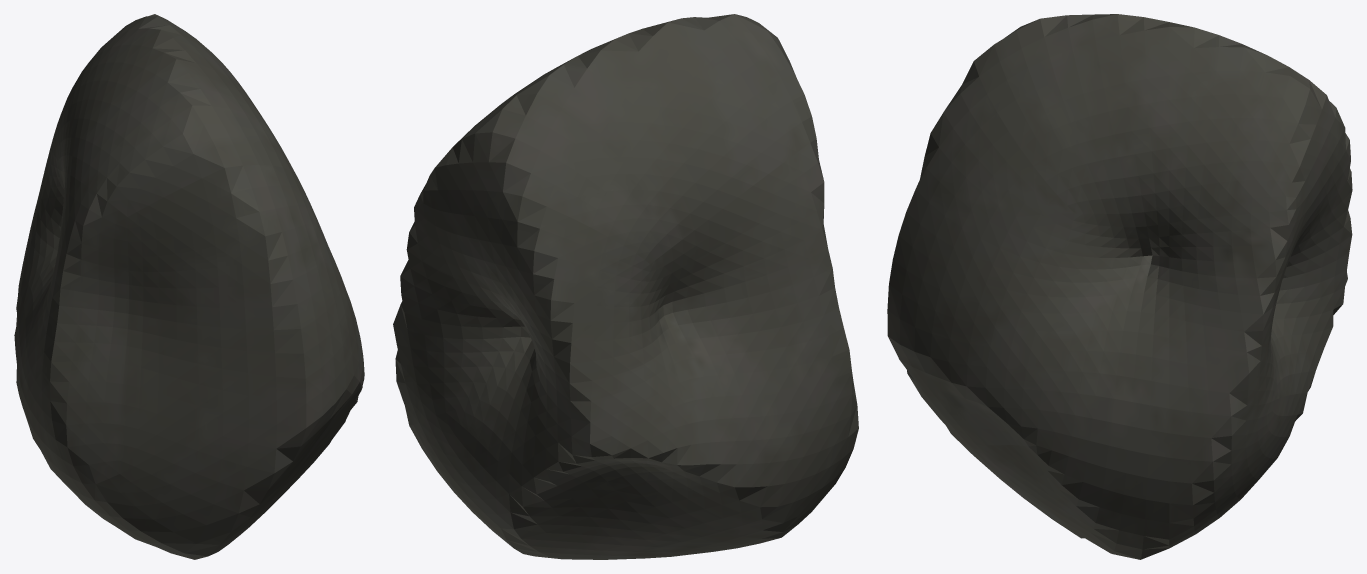
The model's file is rocks-white_3.fbx.
3 views of the same model, side by side, from view 1: azimuth 30°, elevation 25°; view 2: azimuth 150°, elevation 25°; view 3: azimuth 270°, elevation 25° (orthographic). The views are drawn at different scales.
Visible parts, largest first — view 1: Cube.030; view 2: Cube.030; view 3: Cube.030.
Boxes of the visible parts, x1=… form: Cube.030: x1=14, y1=14, x2=364, y2=559; Cube.030: x1=393, y1=14, x2=858, y2=559; Cube.030: x1=887, y1=14, x2=1352, y2=559.
Bounding box in the file's own units: 133 × 188 × 157.
